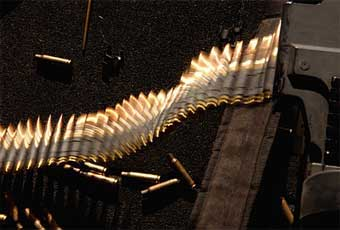rifle: (4, 24, 300, 212)
